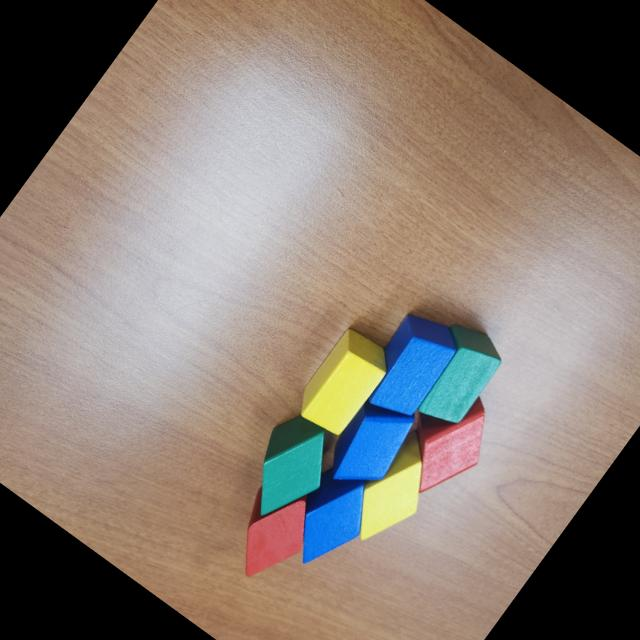blue: (270, 456, 387, 581), (350, 304, 466, 428), (316, 384, 425, 502)
green: (226, 404, 348, 534), (396, 313, 510, 437)
red: (380, 372, 510, 511), (212, 469, 328, 593)
yellow: (334, 422, 454, 558), (290, 323, 398, 441)
